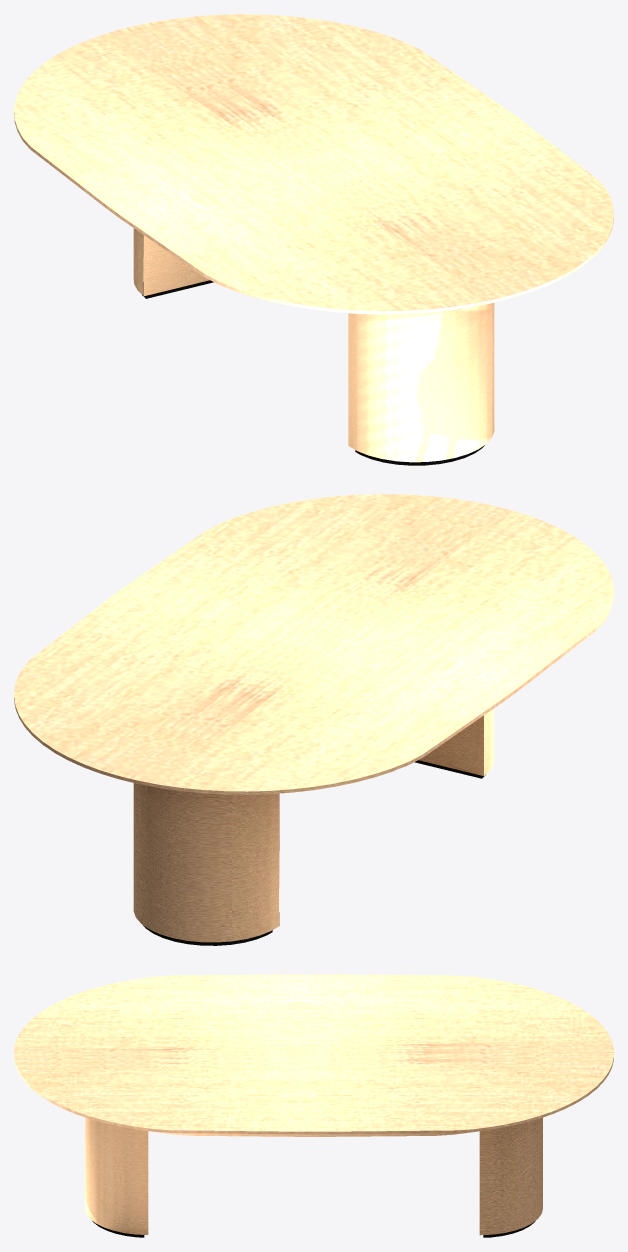
Rendered from Table-Neutral-Scene.fbx.
3 renders of one model, top to bottom at view 1: azimuth 30°, elevation 25°; view 2: azimuth 150°, elevation 25°; view 3: azimuth 270°, elevation 25°, orthographic. The views are drawn at different scales.
Parts seen in each view (by area): view 1: table_Material5_001_0_2; view 2: table_Material5_001_0_2; view 3: table_Material5_001_0_2.
Boxes of the visible parts, x1,y1,x2,y2 form: table_Material5_001_0_2: (14, 14, 613, 465); table_Material5_001_0_2: (14, 494, 613, 945); table_Material5_001_0_2: (14, 974, 613, 1237).
Size of the model in its own units: 161 by 76.33 by 260.
Materials: 1 (1 with a texture image).
